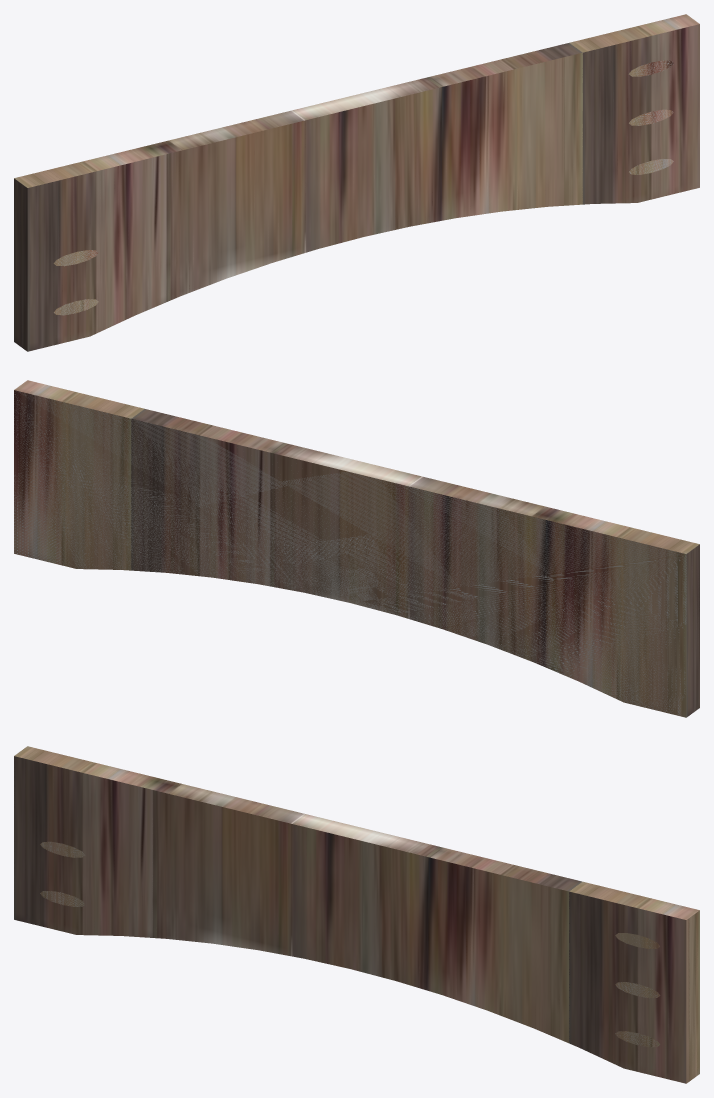
Rendered from original-57.obj.
3 renders of one model, top to bottom at view 1: azimuth 30°, elevation 25°; view 2: azimuth 150°, elevation 25°; view 3: azimuth 330°, elevation 25°, orthographic.
Parts seen in each view (by area): view 1: mesh37/mesh37-geometry#mesh37-geometry; view 2: mesh37/mesh37-geometry#mesh37-geometry; view 3: mesh37/mesh37-geometry#mesh37-geometry.
Boxes of the visible parts, x1,y1,x2,y2 form: mesh37/mesh37-geometry#mesh37-geometry: (14, 14, 699, 351); mesh37/mesh37-geometry#mesh37-geometry: (14, 380, 699, 717); mesh37/mesh37-geometry#mesh37-geometry: (14, 746, 699, 1083).
Bounding box in the file's own units: 0.735 × 0.1709 × 0.0256.
